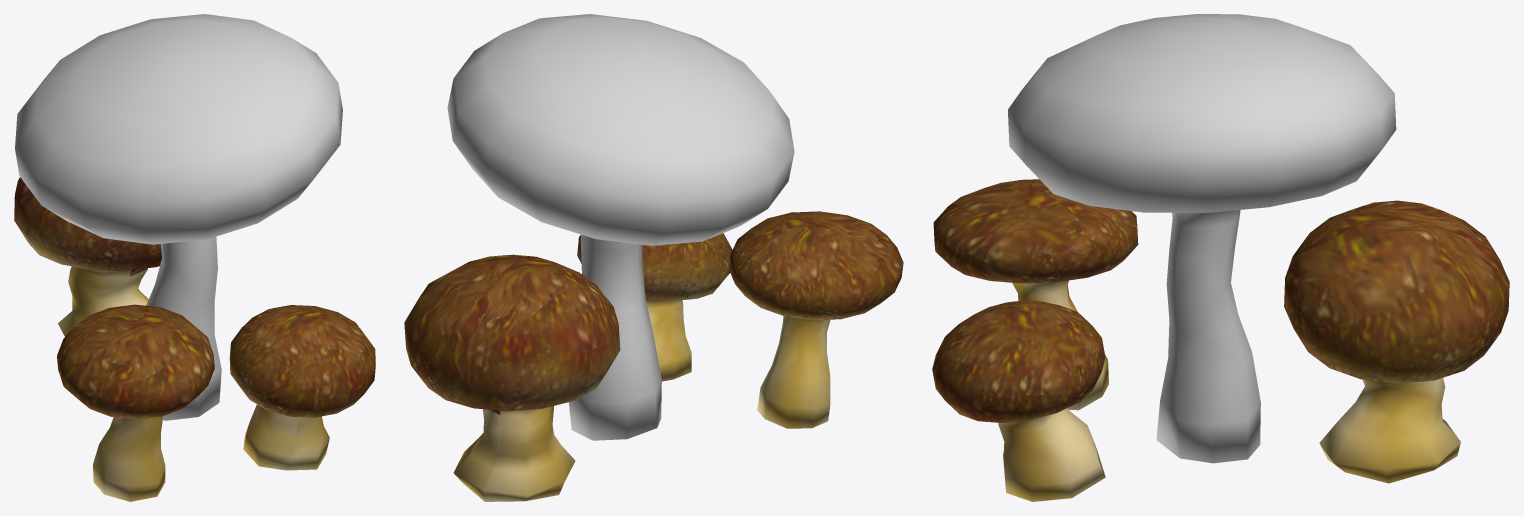
File: mushroom.fbx
3 renders of one model, left to right at view 1: azimuth 30°, elevation 25°; view 2: azimuth 150°, elevation 25°; view 3: azimuth 270°, elevation 25°, orthographic. The views are drawn at different scales.
Parts seen in each view (by area): view 1: Sphere, Sphere_002, Sphere_003, Sphere_001; view 2: Sphere, Sphere_001, Sphere_002, Sphere_003; view 3: Sphere, Sphere_001, Sphere_003, Sphere_002.
Part boxes in pixels (<box>): Sphere: <box>15,14,342,420</box>; Sphere_002: <box>57,304,214,501</box>; Sphere_003: <box>229,305,375,470</box>; Sphere_001: <box>14,177,161,336</box>; Sphere: <box>447,14,794,440</box>; Sphere_001: <box>404,254,620,501</box>; Sphere_002: <box>728,211,903,428</box>; Sphere_003: <box>577,233,732,381</box>; Sphere: <box>1008,14,1396,463</box>; Sphere_001: <box>1284,200,1509,483</box>; Sphere_003: <box>932,300,1105,501</box>; Sphere_002: <box>933,179,1138,410</box>.
Size of the model in its own units: 188 by 206 by 248.
